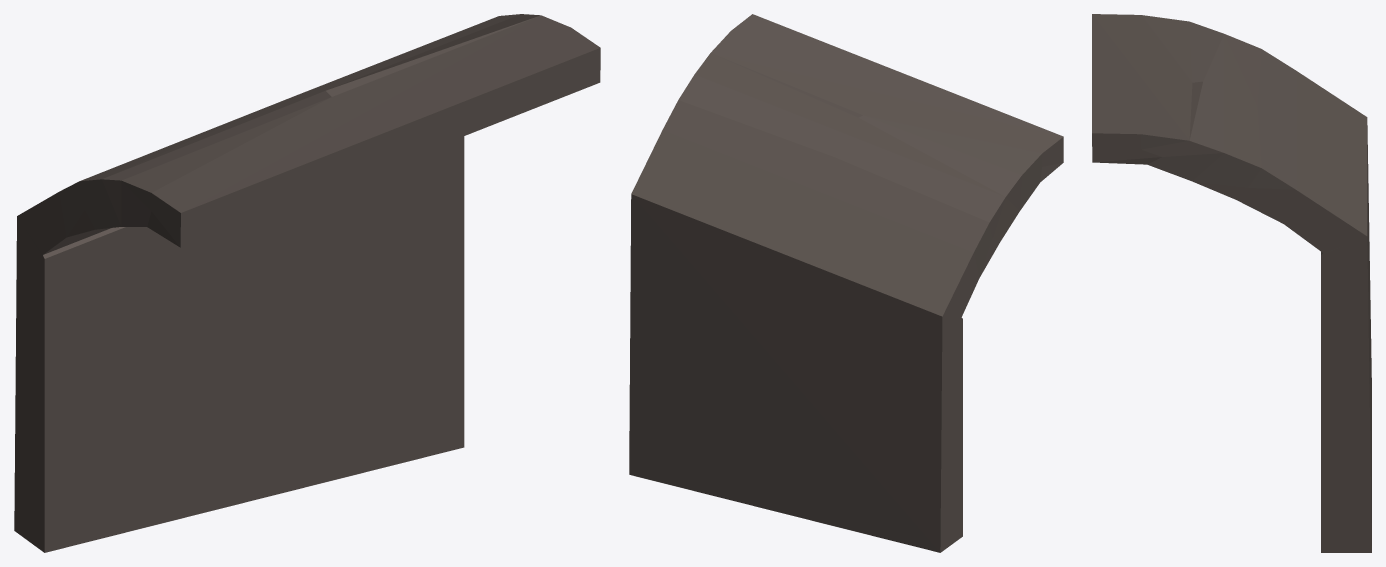
Rendered from MCastle_TunnelWalls_03.FBX.
The picture shows the model from 3 angles, left to right: view 1: azimuth 30°, elevation 25°; view 2: azimuth 150°, elevation 25°; view 3: azimuth 270°, elevation 25°; orthographic projection. The views are drawn at different scales.
Visible parts, largest first — view 1: MCastle_TunnelWalls_03_LOD0; view 2: MCastle_TunnelWalls_03_LOD0; view 3: MCastle_TunnelWalls_03_LOD0.
Boxes of the visible parts, left/top/right/bottom form: MCastle_TunnelWalls_03_LOD0: left=14, top=14, right=600, bottom=552; MCastle_TunnelWalls_03_LOD0: left=629, top=14, right=1063, bottom=552; MCastle_TunnelWalls_03_LOD0: left=1092, top=14, right=1371, bottom=552.
Size of the model in its own units: 4.01 by 4.58 by 2.75.
